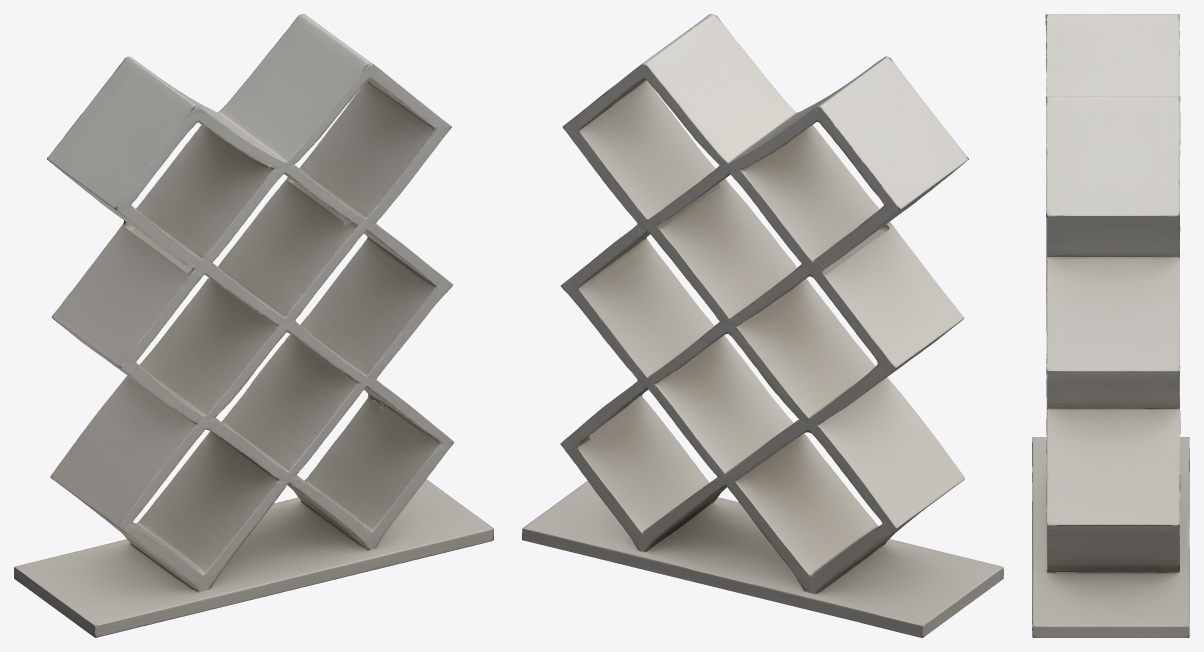
The model's file is book2.glb.
The picture shows the model from 3 angles, left to right: view 1: azimuth 30°, elevation 25°; view 2: azimuth 150°, elevation 25°; view 3: azimuth 270°, elevation 25°; orthographic projection. The views are drawn at different scales.
Visible parts, largest first — view 1: world; view 2: world; view 3: world.
Part boxes in pixels (left/top/right/bottom): world: left=14, top=14, right=493, bottom=637; world: left=522, top=14, right=1003, bottom=637; world: left=1032, top=14, right=1189, bottom=637.
Bounding box in the file's own units: 0.8382 × 1 × 0.2947.
1 material, 1 textured.
